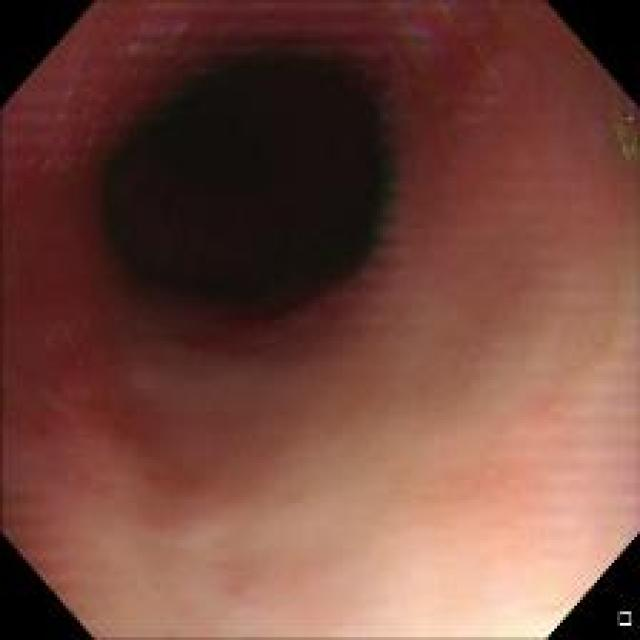color misalignment: (35, 2, 510, 178), (600, 85, 636, 176)
contrast: (76, 36, 419, 312)
